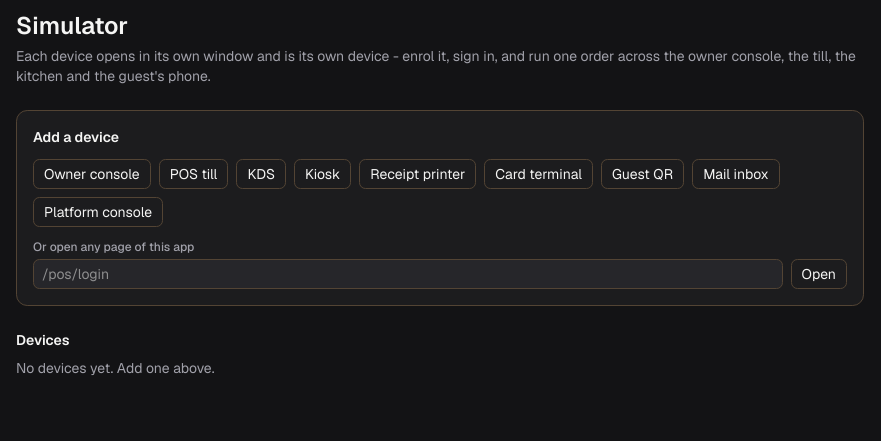
Scenario: SimulatorDevices (PE-26 / CU-25) › says so when the browser blocks the pop-up
Expected: the text "No devices yet. Add one above." is shown, [16,359,214,377]
Click the button with test id "simulator-add-guest-qr" at (643, 174), box [601,159,684,189]
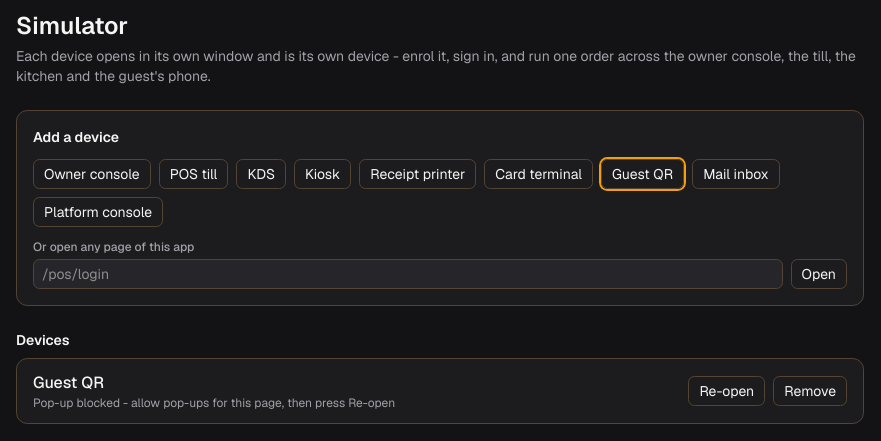
Expected: the text "Pop-up blocked" is shown, [33,395,395,411]
